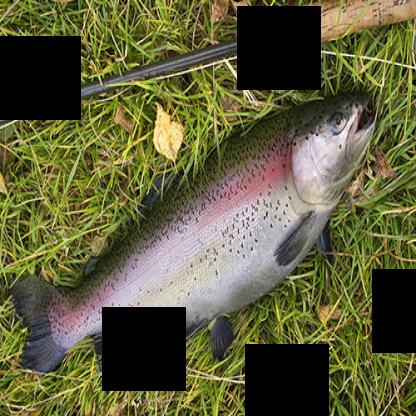fish: (14, 87, 377, 374)
